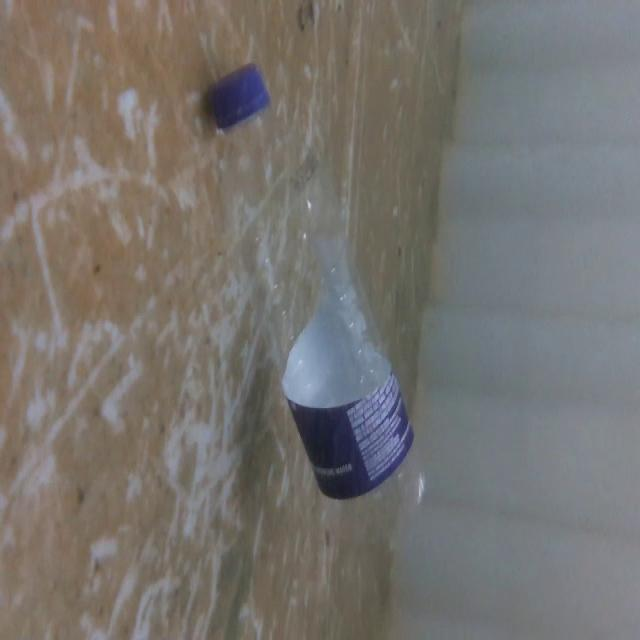plastic bottle: (208, 51, 433, 546)
